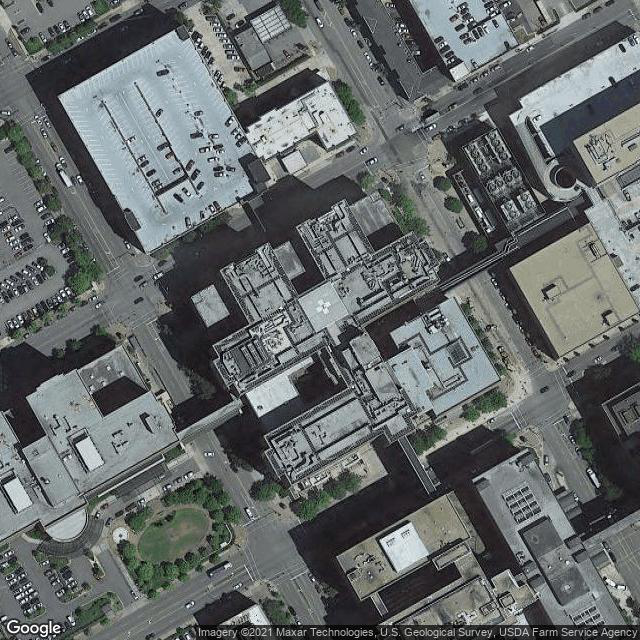Helipad: (306, 290, 339, 318)
